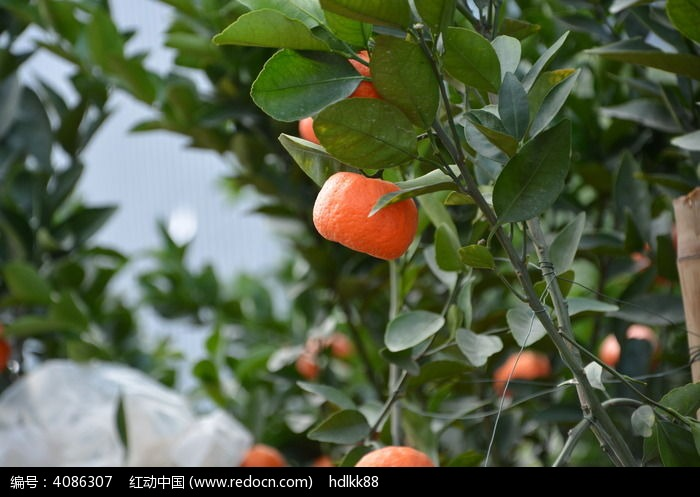orange: (313, 171, 417, 258), (349, 445, 434, 468)
